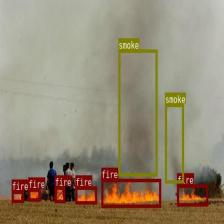fire: (101, 179, 160, 207), (176, 184, 208, 205), (75, 186, 96, 204), (54, 186, 65, 202), (28, 188, 40, 201), (12, 190, 24, 202)
smoke: (118, 49, 157, 176), (164, 103, 184, 182)
